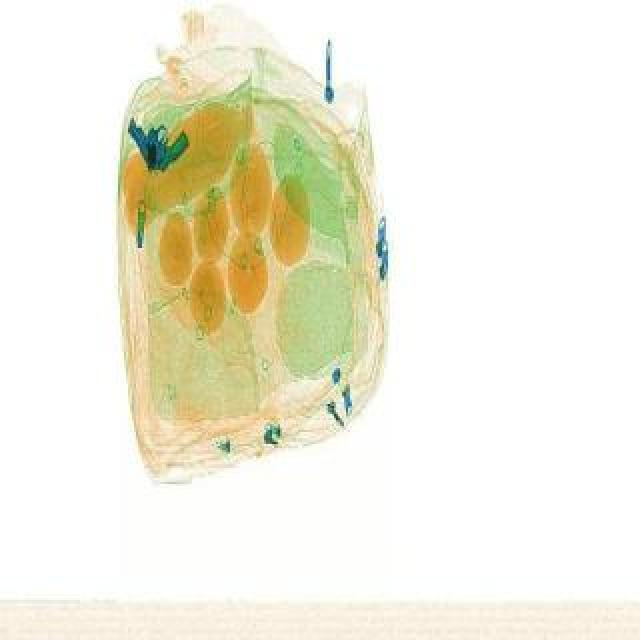gun: (110, 98, 194, 174)
